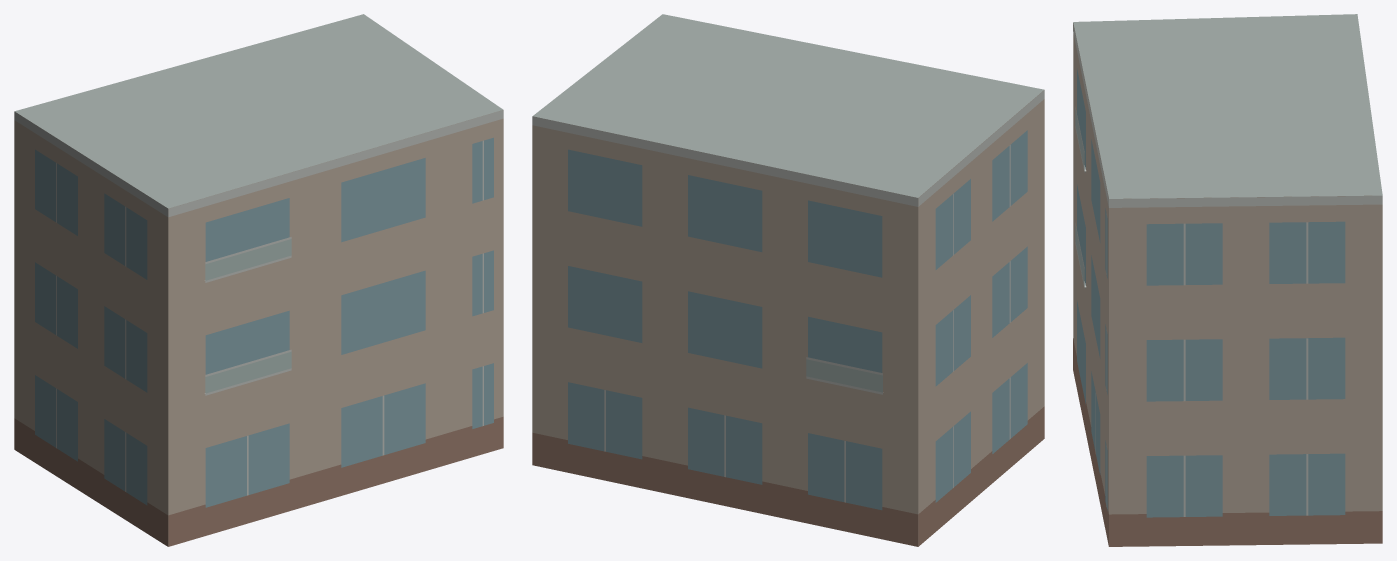
The model's file is survey-upis-32542873.glb.
The picture shows the model from 3 angles, left to right: view 1: azimuth 30°, elevation 25°; view 2: azimuth 150°, elevation 25°; view 3: azimuth 270°, elevation 25°; orthographic projection. The views are drawn at different scales.
Visible parts, largest first — view 1: survey-upis-32542873.tmp; view 2: survey-upis-32542873.tmp; view 3: survey-upis-32542873.tmp.
Boxes of the visible parts, <box> form: survey-upis-32542873.tmp: <box>14,14,503,546</box>; survey-upis-32542873.tmp: <box>532,14,1044,546</box>; survey-upis-32542873.tmp: <box>1073,14,1382,546</box>.
Size of the model in its own units: 10.73 by 9.4 by 7.59.
